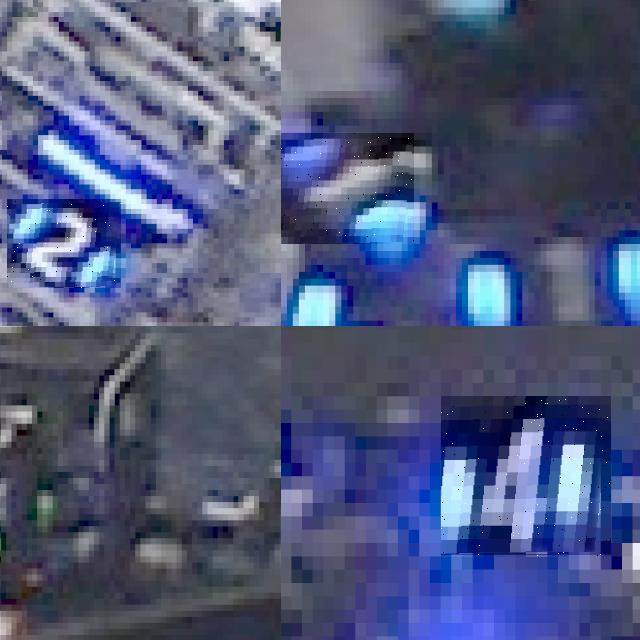B1: (462, 237, 640, 326), (281, 132, 413, 244), (281, 216, 347, 326)
B2: (7, 199, 121, 288)
B4: (441, 396, 611, 556)
